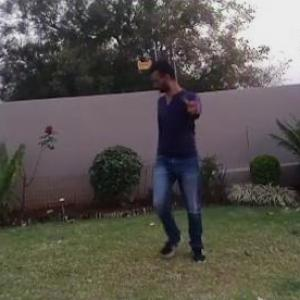takeoff-hand: (175, 90, 208, 123)
